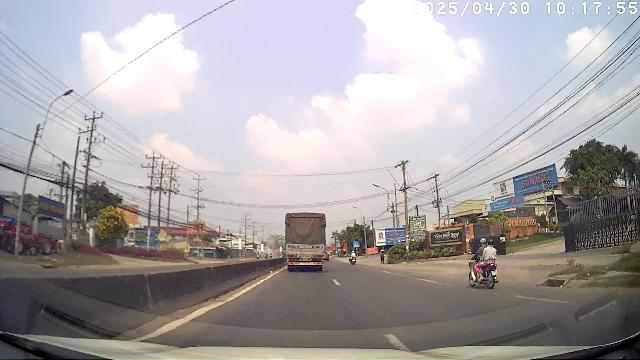423a-duong-nguoi-di-bo-sang-ngang-1: (353, 241, 359, 247)
